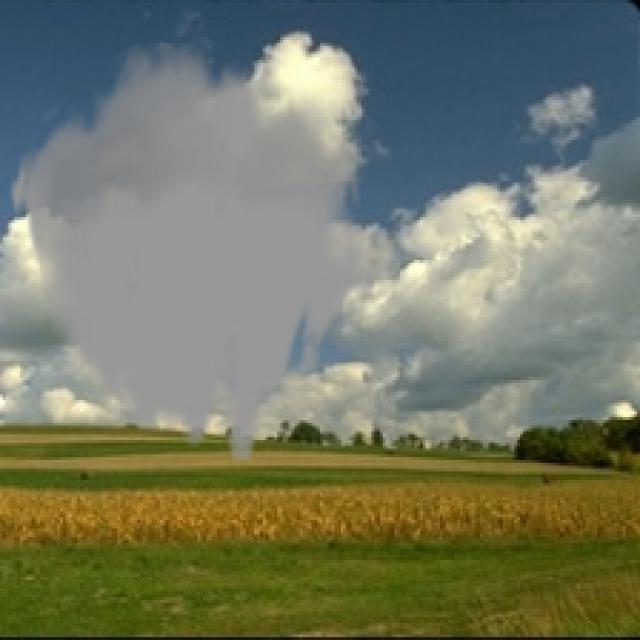Smoke: (9, 43, 378, 460)
